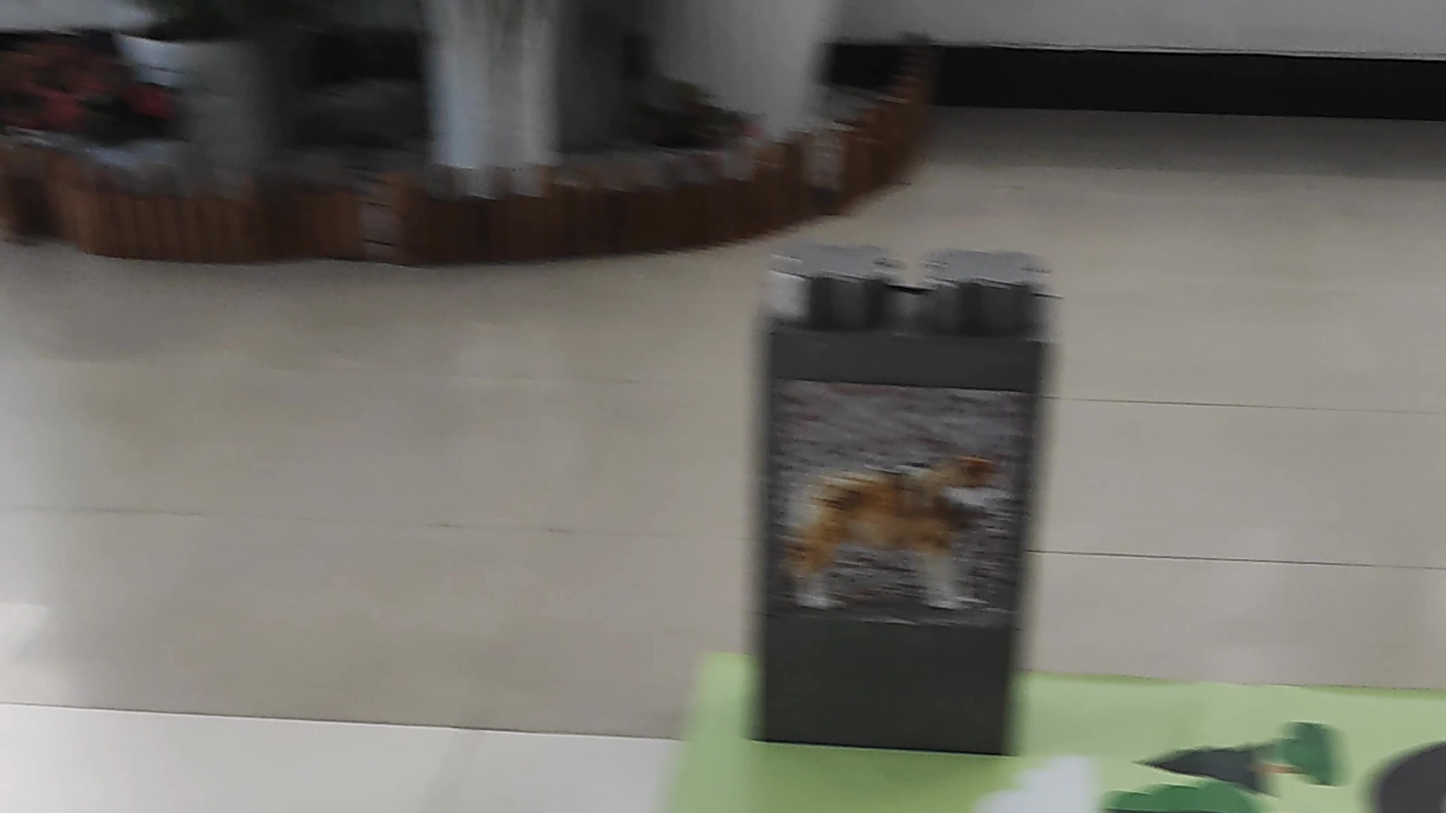wolf: (769, 434, 1009, 630)
